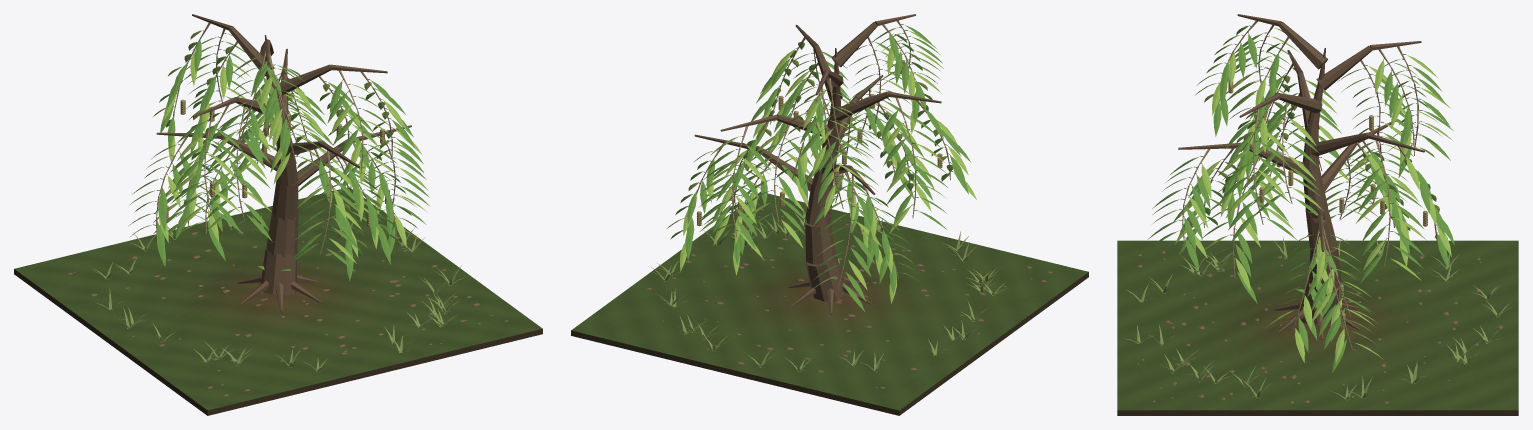
Rendered from willow-tree.glb.
3 views of the same model, side by side, from view 1: azimuth 30°, elevation 25°; view 2: azimuth 150°, elevation 25°; view 3: azimuth 270°, elevation 25° (orthographic). The views are drawn at different scales.
Visible parts, largest first — view 1: Static_mesh, TreeTrunk_mesh, WillowLeaves.014_mesh, WillowLeaves.007_mesh, WillowLeaves.012_mesh, WillowLeaves.023_mesh, WillowLeaves.016_mesh, WillowLeaves.005_mesh, WillowLeaves.001_mesh, WillowLeaves.022_mesh, WillowLeaves.020_mesh, WillowLeaves.008_mesh (+16 smaller); view 2: Static_mesh, TreeTrunk_mesh, WillowLeaves.011_mesh, WillowLeaves.013_mesh, WillowLeaves.020_mesh, WillowLeaves.004_mesh, WillowLeaves.022_mesh, WillowLeaves.009_mesh, WillowLeaves.002_mesh, WillowLeaves.005_mesh, WillowLeaves.019_mesh, WillowLeaves.010_mesh (+15 smaller); view 3: Static_mesh, TreeTrunk_mesh, WillowLeaves.017_mesh, WillowLeaves.010_mesh, WillowLeaves.008_mesh, WillowLeaves.002_mesh, WillowLeaves.023_mesh, WillowLeaves.019_mesh, WillowLeaves.015_mesh, WillowLeaves.006_mesh, WillowLeaves.001_mesh, WillowLeaves.011_mesh (+21 smaller).
Boxes of the visible parts, left/top/right/bottom form: Static_mesh: left=14, top=187, right=542, bottom=415; TreeTrunk_mesh: left=237, top=35, right=320, bottom=312; WillowLeaves.014_mesh: left=171, top=120, right=243, bottom=234; WillowLeaves.007_mesh: left=289, top=158, right=364, bottom=271; WillowLeaves.012_mesh: left=203, top=115, right=272, bottom=241; WillowLeaves.023_mesh: left=250, top=63, right=324, bottom=167; WillowLeaves.016_mesh: left=327, top=79, right=397, bottom=193; WillowLeaves.005_mesh: left=128, top=144, right=192, bottom=266; WillowLeaves.001_mesh: left=359, top=152, right=419, bottom=260; WillowLeaves.022_mesh: left=216, top=55, right=282, bottom=168; WillowLeaves.020_mesh: left=153, top=30, right=203, bottom=161; WillowLeaves.008_mesh: left=348, top=166, right=398, bottom=264; Static_mesh: left=571, top=191, right=1088, bottom=415; TreeTrunk_mesh: left=788, top=48, right=871, bottom=314; WillowLeaves.011_mesh: left=699, top=136, right=770, bottom=258; WillowLeaves.013_mesh: left=881, top=108, right=947, bottom=233; WillowLeaves.020_mesh: left=800, top=98, right=869, bottom=225; WillowLeaves.004_mesh: left=810, top=184, right=881, bottom=311; WillowLeaves.022_mesh: left=887, top=31, right=937, bottom=133; WillowLeaves.009_mesh: left=741, top=132, right=812, bottom=248; WillowLeaves.002_mesh: left=667, top=150, right=717, bottom=271; WillowLeaves.005_mesh: left=866, top=193, right=921, bottom=303; WillowLeaves.019_mesh: left=776, top=87, right=824, bottom=208; WillowLeaves.010_mesh: left=713, top=128, right=771, bottom=245; Static_mesh: left=1117, top=240, right=1518, bottom=415; TreeTrunk_mesh: left=1274, top=48, right=1360, bottom=339; WillowLeaves.017_mesh: left=1220, top=120, right=1297, bottom=242; WillowLeaves.010_mesh: left=1345, top=151, right=1426, bottom=283; WillowLeaves.008_mesh: left=1147, top=156, right=1211, bottom=271; WillowLeaves.002_mesh: left=1307, top=248, right=1383, bottom=372; WillowLeaves.023_mesh: left=1195, top=25, right=1257, bottom=136; WillowLeaves.019_mesh: left=1374, top=57, right=1440, bottom=177; WillowLeaves.015_mesh: left=1249, top=110, right=1325, bottom=222; WillowLeaves.006_mesh: left=1199, top=164, right=1274, bottom=303; WillowLeaves.001_mesh: left=1263, top=234, right=1338, bottom=362; WillowLeaves.011_mesh: left=1404, top=154, right=1454, bottom=267.
Size of the model in its own units: 3.5 by 2.84 by 3.5.
